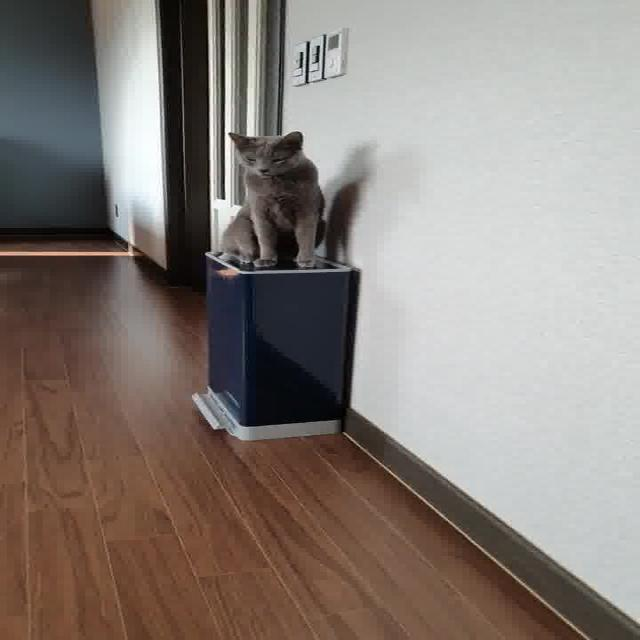cat: (173, 118, 380, 282)
